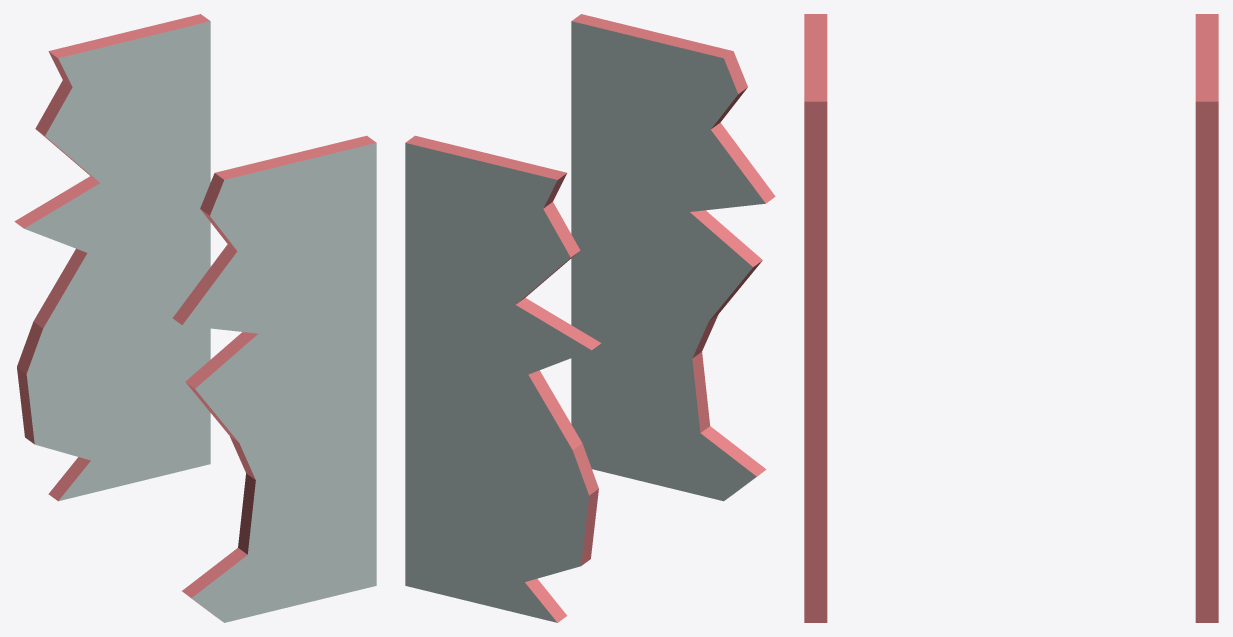
File: Cutup Door Stage 2 (1).fbx
3 renders of one model, left to right at view 1: azimuth 30°, elevation 25°; view 2: azimuth 150°, elevation 25°; view 3: azimuth 270°, elevation 25°, orthographic. The views are drawn at different scales.
Visible parts, largest first — view 1: polySurface545; view 2: polySurface545; view 3: polySurface545.
Boxes of the visible parts, left/top/right/bottom form: polySurface545: left=14, top=14, right=376, bottom=622; polySurface545: left=405, top=14, right=775, bottom=622; polySurface545: left=804, top=14, right=1218, bottom=622.
Bounding box in the file's own units: 11.48 × 25 × 18.
